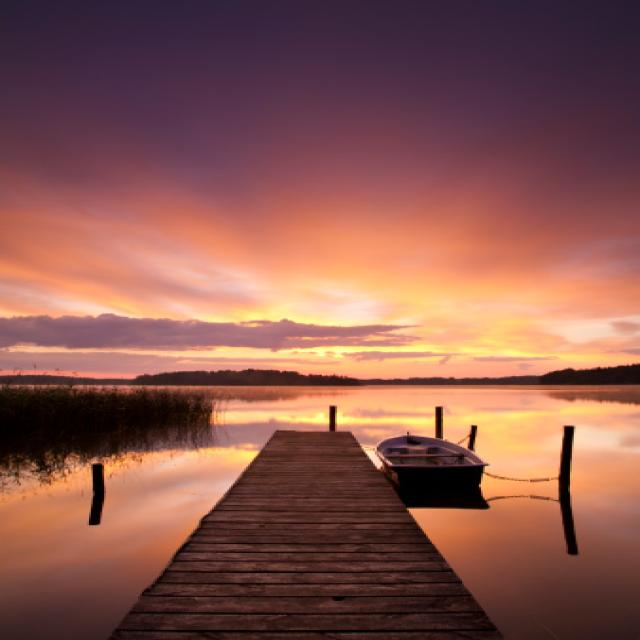Boat: (365, 420, 512, 521)
